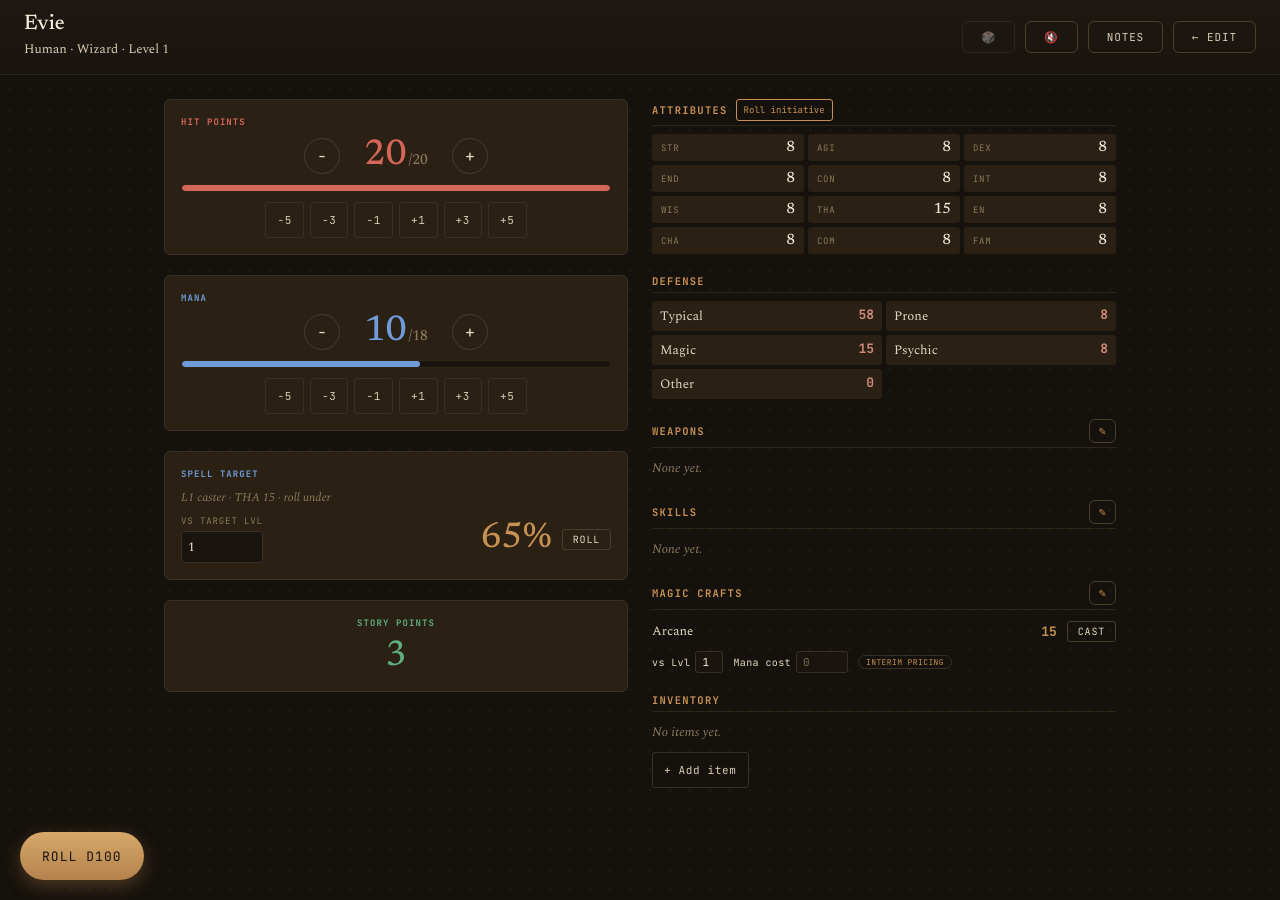
Scenario: PlayMode per-craft Cast flow (#237) › casts without deduction when no cost is entered
Click the button "Cast" at point(1091, 632), box x1=1067 y1=621 x2=1116 y2=642
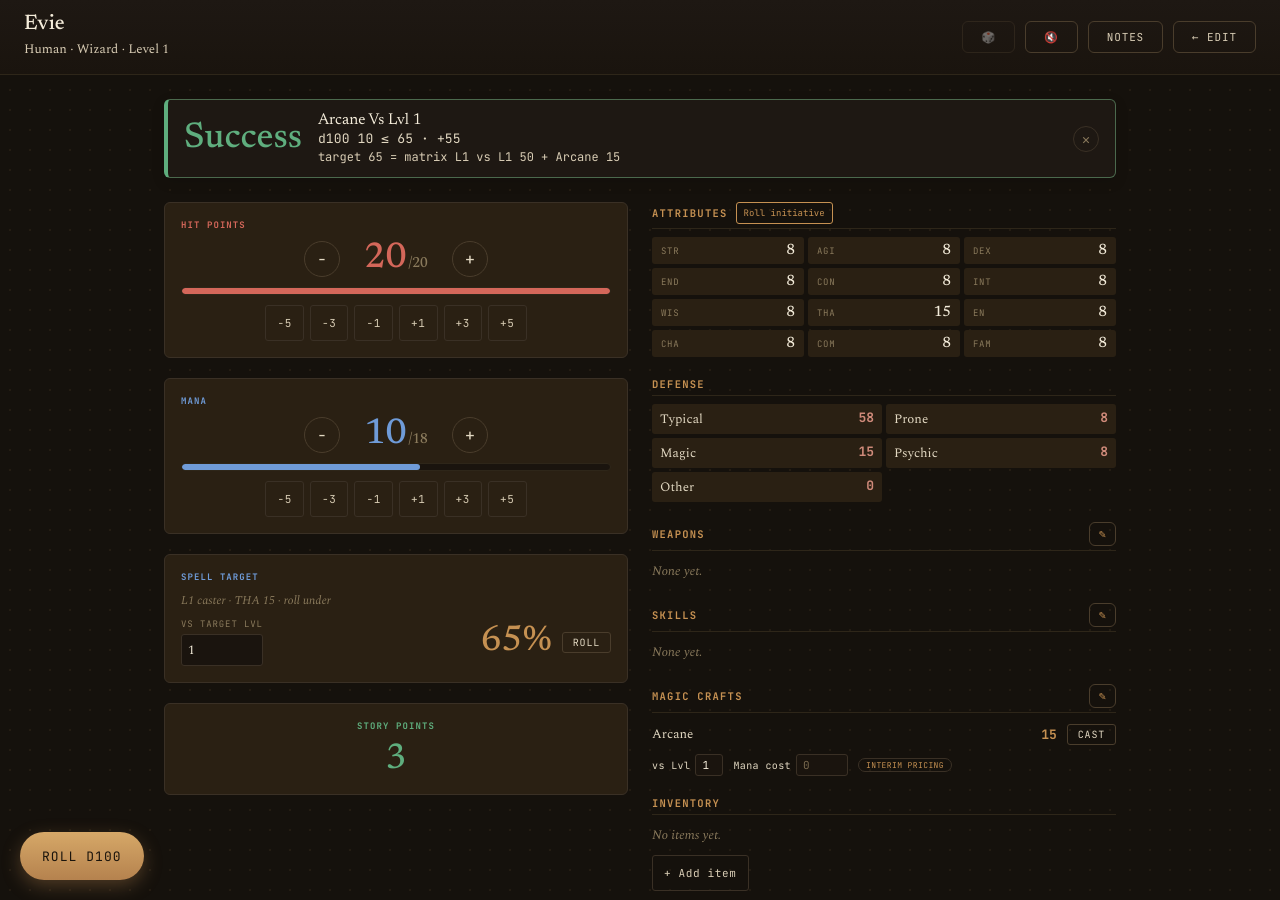
Expected: the text "Success" is shown, x1=184 y1=120 x2=302 y2=156
